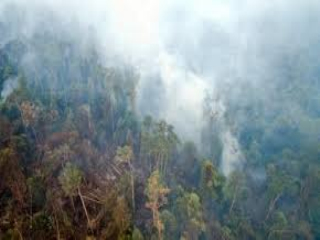smoke: (144, 58, 256, 184), (3, 37, 45, 114)
